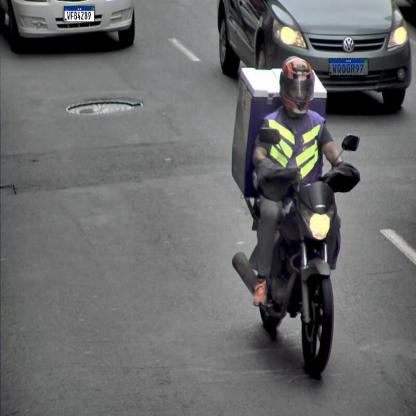PlacaM: (328, 58, 368, 76), (64, 6, 95, 22)
